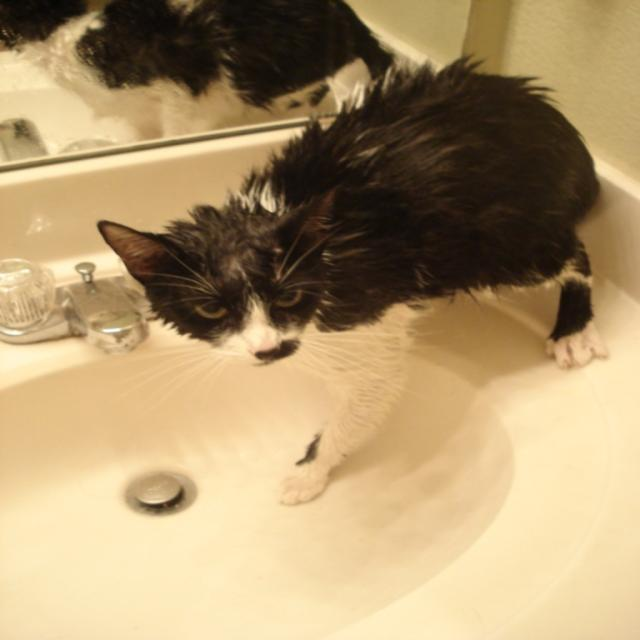Cat: (95, 53, 601, 504)
